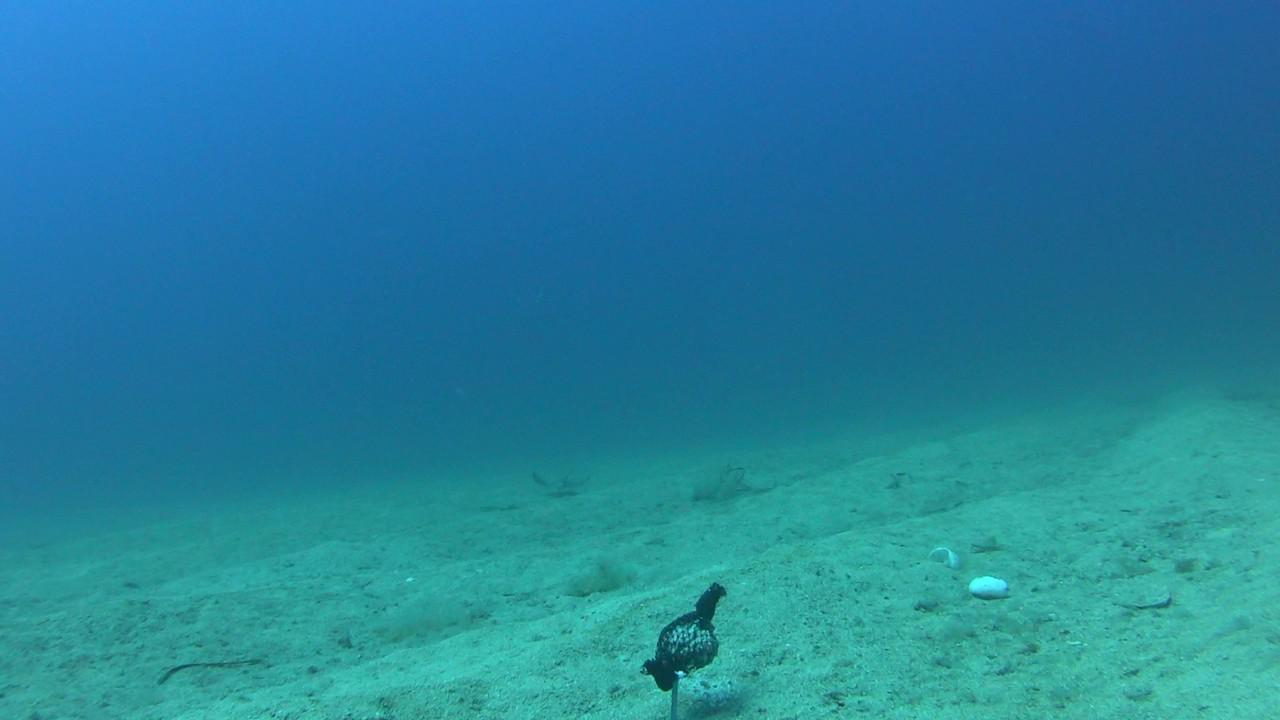myliobatis: (521, 450, 600, 504)
